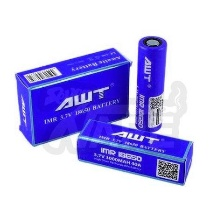battery: (134, 34, 169, 135)
book: (11, 42, 133, 151), (75, 116, 196, 190)
